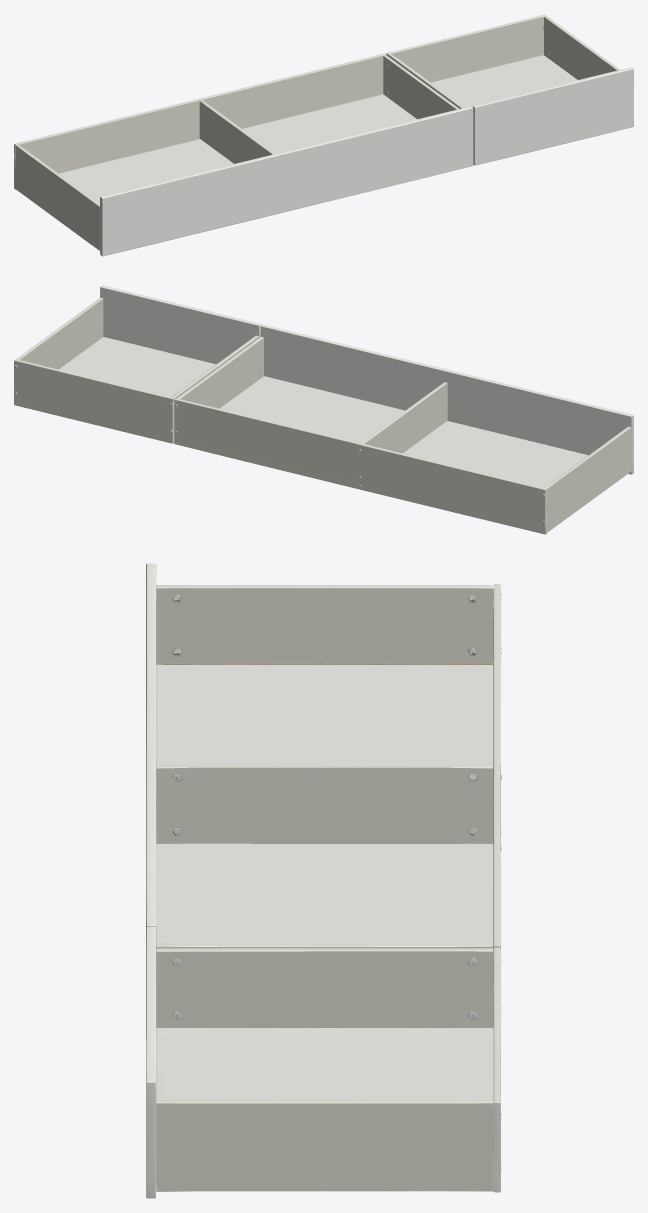
File: 56 - VIHALS - 床底收納盒 2件組, 白色, 200 公分 IKEA 線上購物.glb
3 views of the same model, one above another, from view 1: azimuth 30°, elevation 25°; view 2: azimuth 150°, elevation 25°; view 3: azimuth 270°, elevation 25° (orthographic). The views are drawn at different scales.
Visible parts, largest first — view 1: ASY_LPT02_10595118_S01_NV01, ASY_LPT01_10595118_S01_NV01; view 2: ASY_LPT02_10595118_S01_NV01, ASY_LPT01_10595118_S01_NV01; view 3: ASY_LPT02_10595118_S01_NV01, ASY_LPT01_10595118_S01_NV01.
Boxes of the visible parts, x1,y1,x2,y2 form: ASY_LPT02_10595118_S01_NV01: (14,53,473,256); ASY_LPT01_10595118_S01_NV01: (386,14,633,165); ASY_LPT02_10595118_S01_NV01: (174,324,633,534); ASY_LPT01_10595118_S01_NV01: (14,285,261,443); ASY_LPT02_10595118_S01_NV01: (146,563,501,1040); ASY_LPT01_10595118_S01_NV01: (146,927,501,1198).
Bounding box in the file's own units: 2 × 0.235 × 0.5798.
3 materials, 3 textured.
